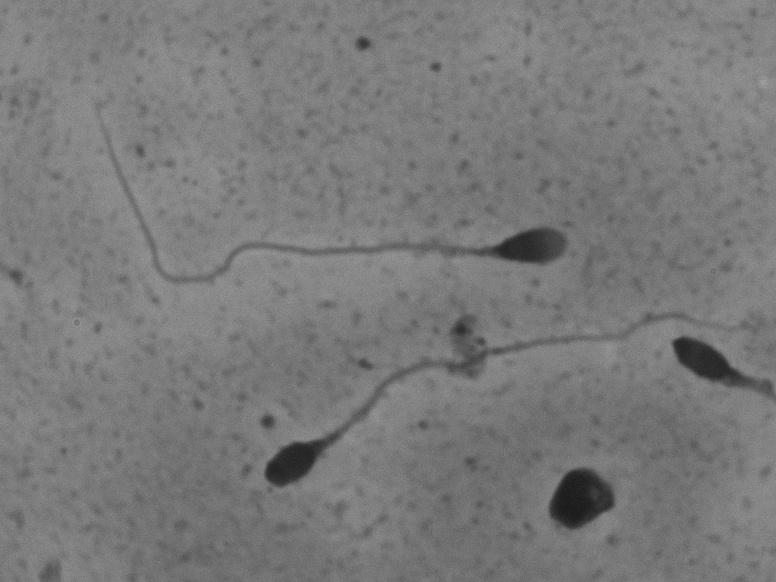Abnormal: (231, 295, 738, 519)
Normal: (81, 96, 591, 318)
